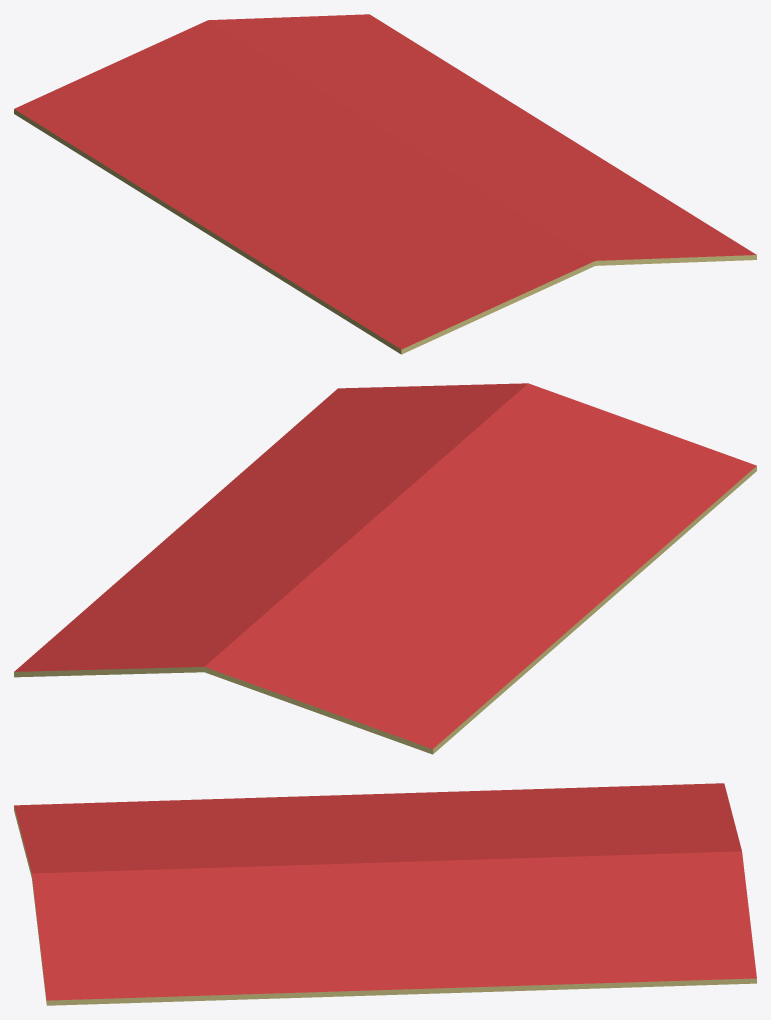
3 renders of one model, top to bottom at view 1: azimuth 30°, elevation 25°; view 2: azimuth 150°, elevation 25°; view 3: azimuth 270°, elevation 25°, orthographic. The views are drawn at different scales.
Size of the model in its own units: 8.68 by 13.01 by 0.91.
